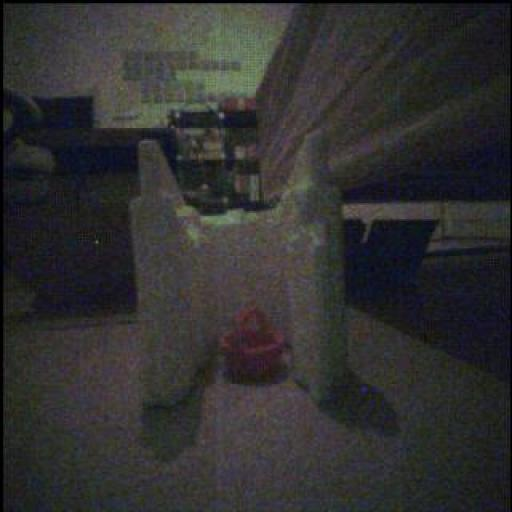basket: (220, 308, 284, 380)
